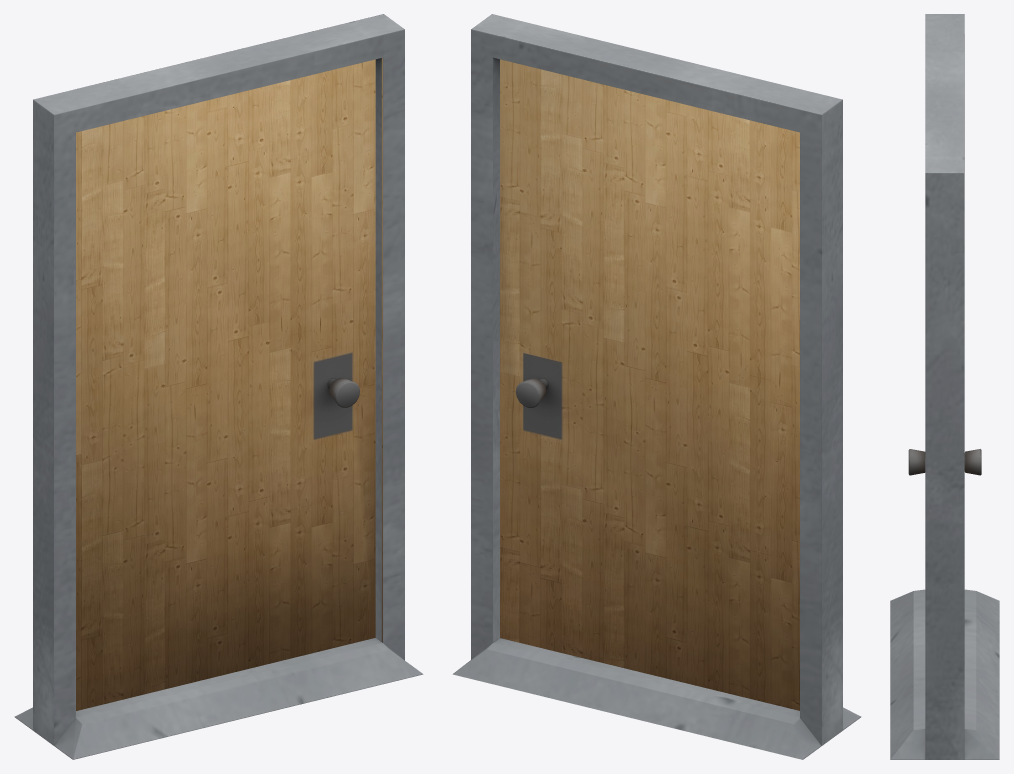
The model's file is wooden_door_-_low_poly_animated.glb.
3 renders of one model, left to right at view 1: azimuth 30°, elevation 25°; view 2: azimuth 150°, elevation 25°; view 3: azimuth 270°, elevation 25°, orthographic. The views are drawn at different scales.
Parts seen in each view (by area): view 1: Cube.009_Baked.002_0, Doorway_Baked.002_2; view 2: Cube.009_Baked.002_0, Doorway_Baked.002_2; view 3: Doorway_Baked.002_2, Cube.009_Baked.002_0.
Part boxes in pixels (box(x1,y1,x2,y2)): Cube.009_Baked.002_0: box(76, 59, 375, 710); Doorway_Baked.002_2: box(14, 14, 423, 759); Cube.009_Baked.002_0: box(500, 59, 799, 710); Doorway_Baked.002_2: box(452, 14, 861, 759); Doorway_Baked.002_2: box(890, 14, 999, 759); Cube.009_Baked.002_0: box(908, 449, 981, 475).
Bounding box in the file's own units: 1.79 × 3.08 × 0.5216.
Materials: 2 (2 with a texture image).
